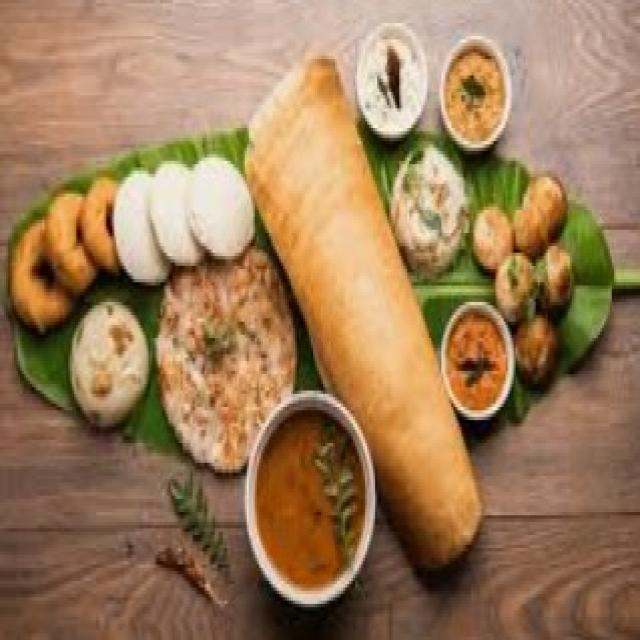DOSA: (243, 56, 484, 574), (154, 246, 301, 476)
IDLI: (112, 158, 255, 286)
PONGAL: (389, 148, 467, 276)
RED CHUTNEY: (439, 302, 516, 427), (439, 36, 514, 154)
SAMBAR: (243, 391, 377, 614)
SWEET: (68, 302, 150, 433)
VADA: (4, 144, 185, 348)
WHITE CHUTNEY: (353, 23, 429, 144)
